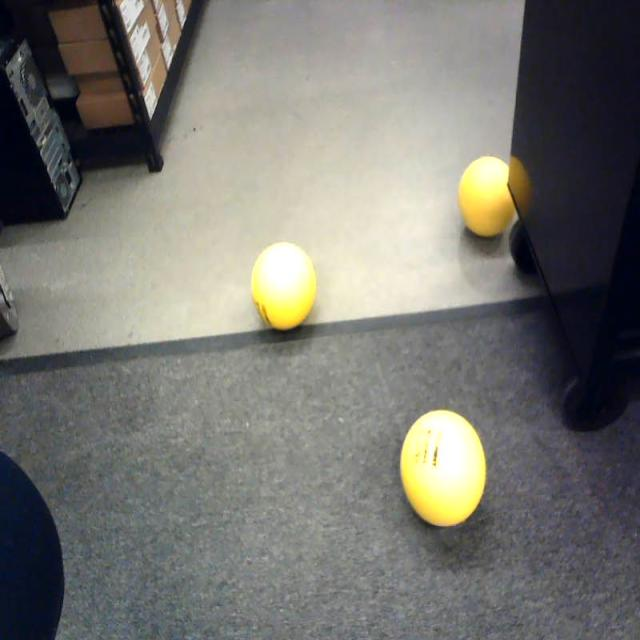Fuel: (401, 410, 485, 527), (252, 242, 316, 330), (460, 156, 518, 236)
